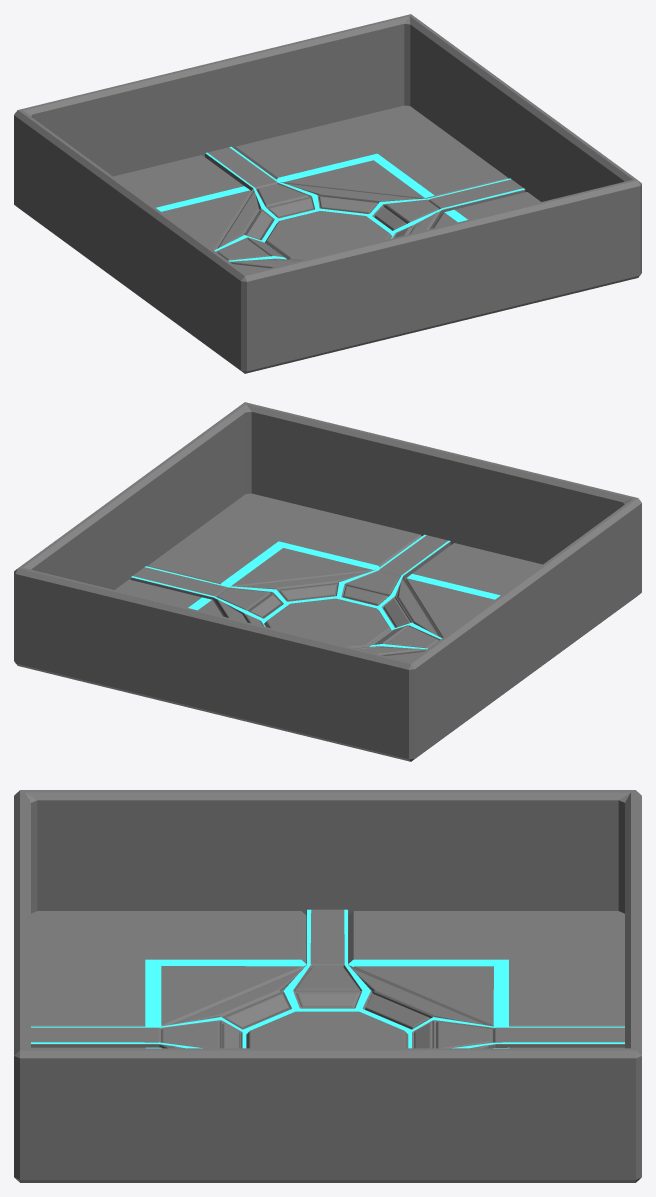
Rendered from CentralCeilingSquare.fbx.
The picture shows the model from 3 angles, top to bottom: view 1: azimuth 30°, elevation 25°; view 2: azimuth 150°, elevation 25°; view 3: azimuth 270°, elevation 25°; orthographic projection. The views are drawn at different scales.
Parts seen in each view (by area): view 1: Central-Ceiling-Square; view 2: Central-Ceiling-Square; view 3: Central-Ceiling-Square.
Boxes of the visible parts, bbox=[...] form: Central-Ceiling-Square: bbox=[14, 14, 641, 373]; Central-Ceiling-Square: bbox=[14, 402, 641, 761]; Central-Ceiling-Square: bbox=[14, 790, 641, 1182].
Bounding box in the file's own units: 1028 × 239 × 1028.
